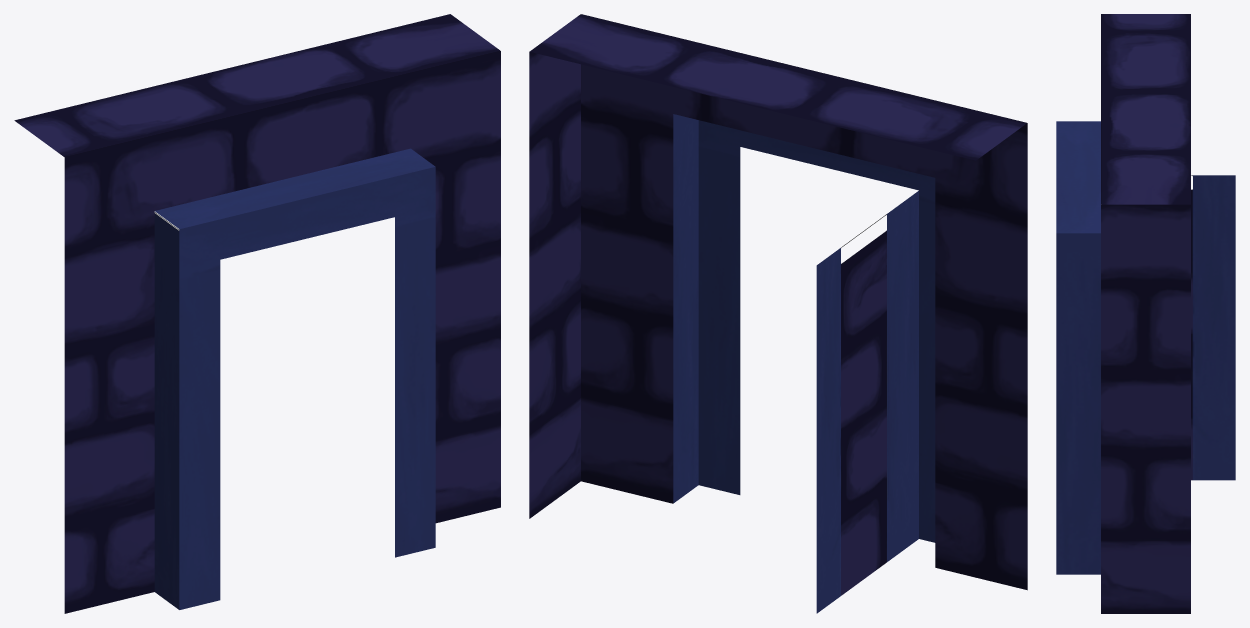
Rendered from Door_Wall_Small.fbx.
3 views of the same model, side by side, from view 1: azimuth 30°, elevation 25°; view 2: azimuth 150°, elevation 25°; view 3: azimuth 270°, elevation 25° (orthographic). The views are drawn at different scales.
Visible parts, largest first — view 1: Wall_Door_Small_Right; view 2: Wall_Door_Small_Right; view 3: Wall_Door_Small_Right.
Part boxes in pixels (x1=…): Wall_Door_Small_Right: x1=14, y1=14, x2=500, y2=613; Wall_Door_Small_Right: x1=529, y1=14, x2=1027, y2=613; Wall_Door_Small_Right: x1=1056, y1=14, x2=1235, y2=613.
Bounding box in the file's own units: 5 × 5 × 1.99.
